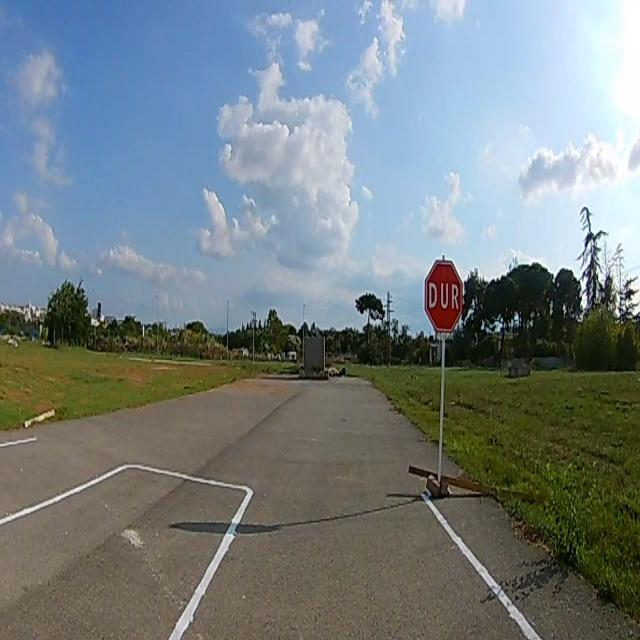dur: (424, 262, 462, 331)
